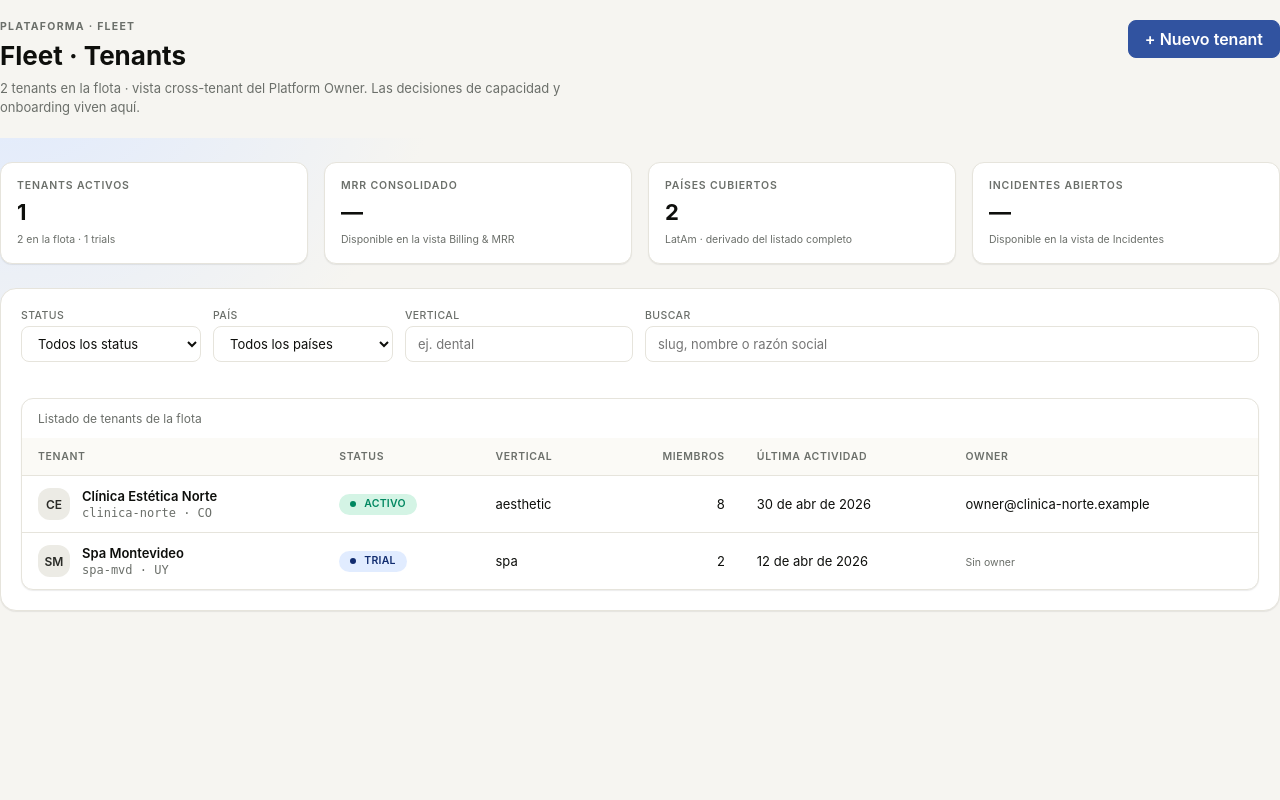
Scenario: FleetTenants › handleSupportInto: si activateSupportMode falla, muestra error y no navega
Click the text "Clínica Estética Norte" at (150, 496), box [82,488,217,504]
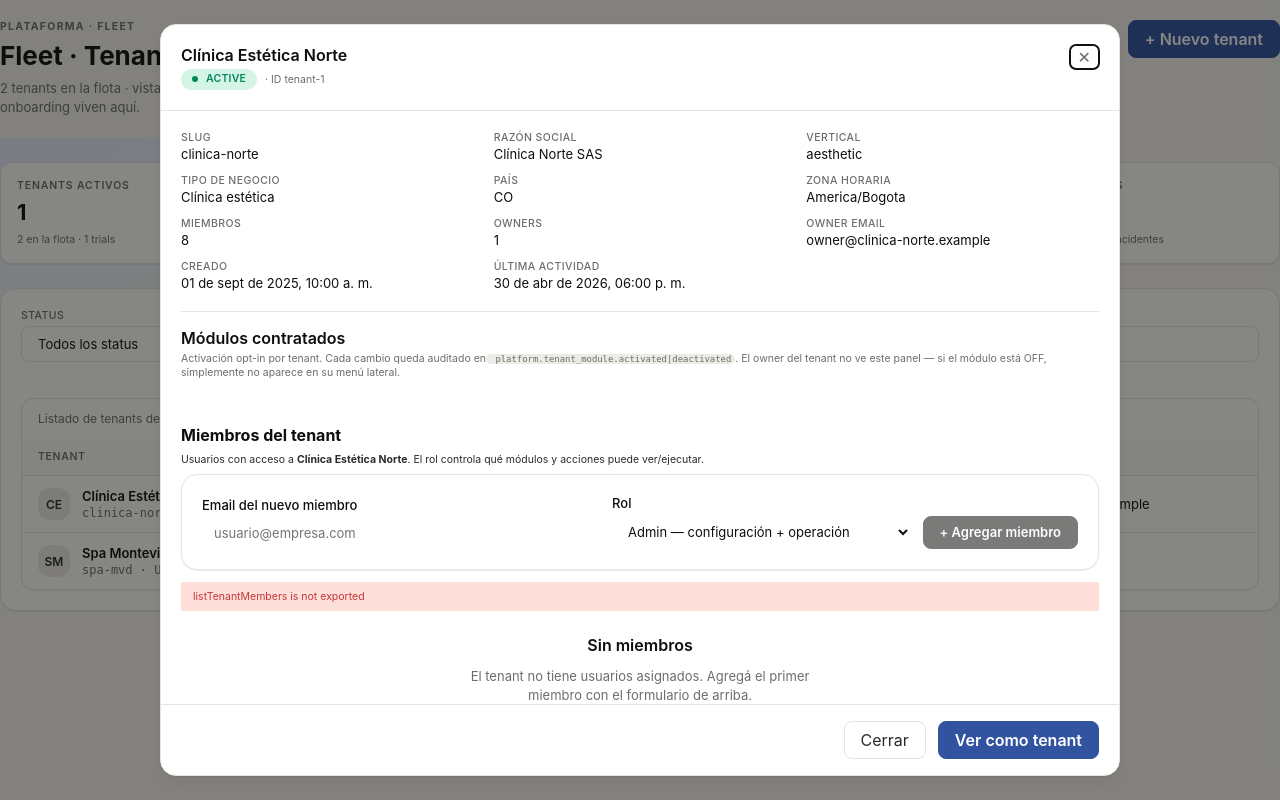
Now the dialog is shown
Click the button "Ver como tenant" at (1018, 740), box [938,721,1099,759]
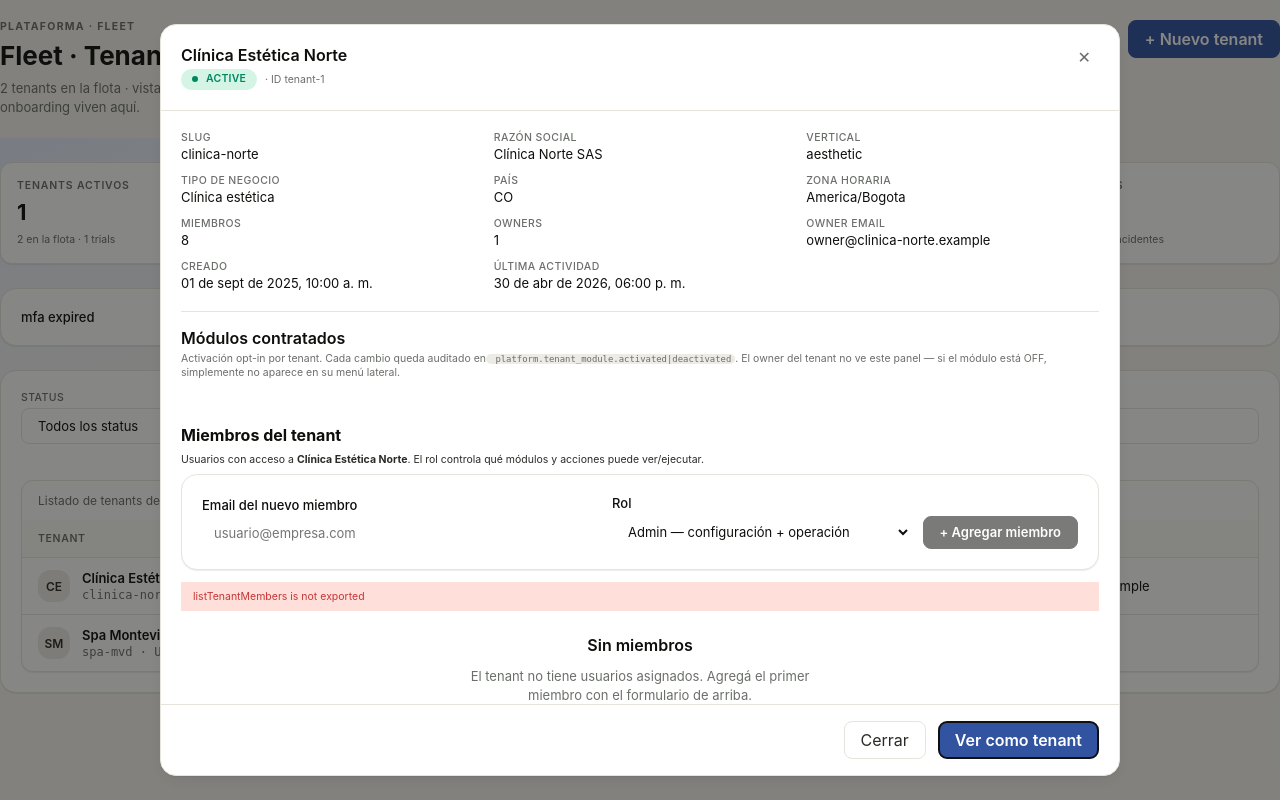
Now the text "mfa expired" is shown, box [21,309,94,325]
